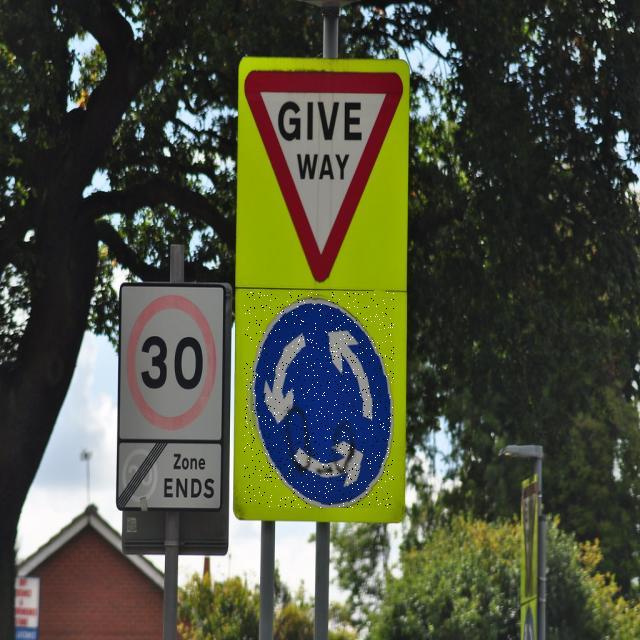roundabout: (244, 292, 394, 508)
